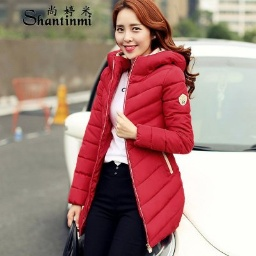face: (105, 1, 185, 59)
